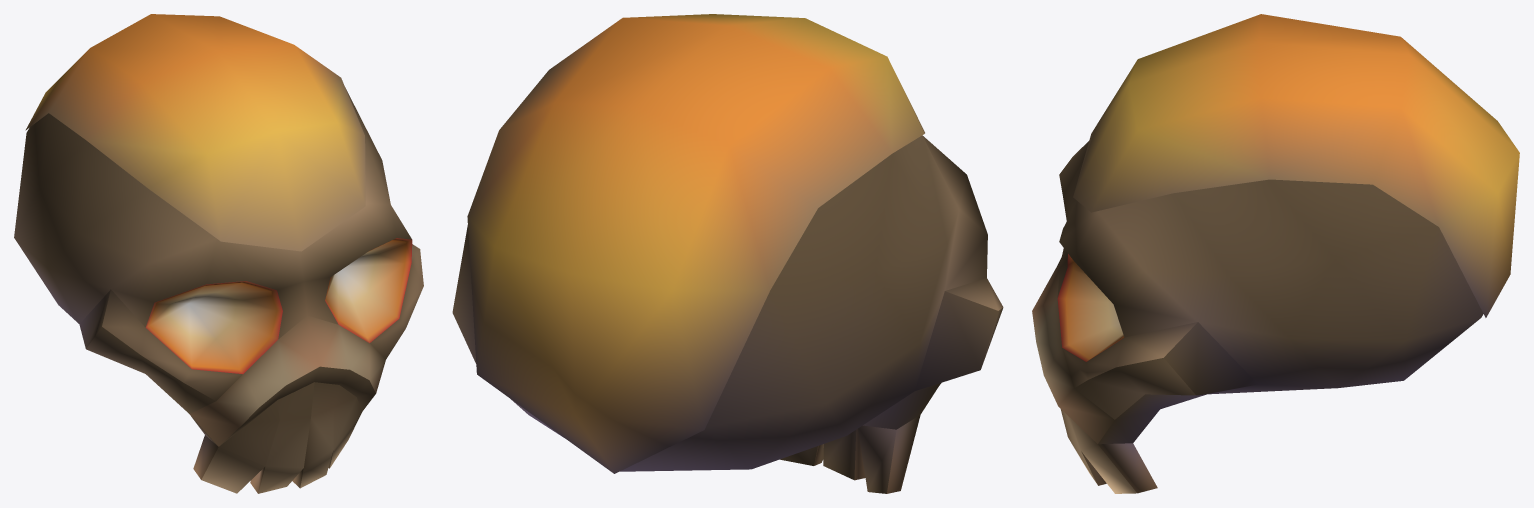
File: Skull.gltf
The picture shows the model from 3 angles, left to right: view 1: azimuth 30°, elevation 25°; view 2: azimuth 150°, elevation 25°; view 3: azimuth 270°, elevation 25°; orthographic projection. The views are drawn at different scales.
Visible parts, largest first — view 1: SkullMesh; view 2: SkullMesh; view 3: SkullMesh.
Boxes of the visible parts, x1,y1,x2,y2 form: SkullMesh: (14,14,423,493); SkullMesh: (452,14,1003,493); SkullMesh: (1032,14,1519,493).
Bounding box in the file's own units: 1.52 × 1.73 × 1.79.
